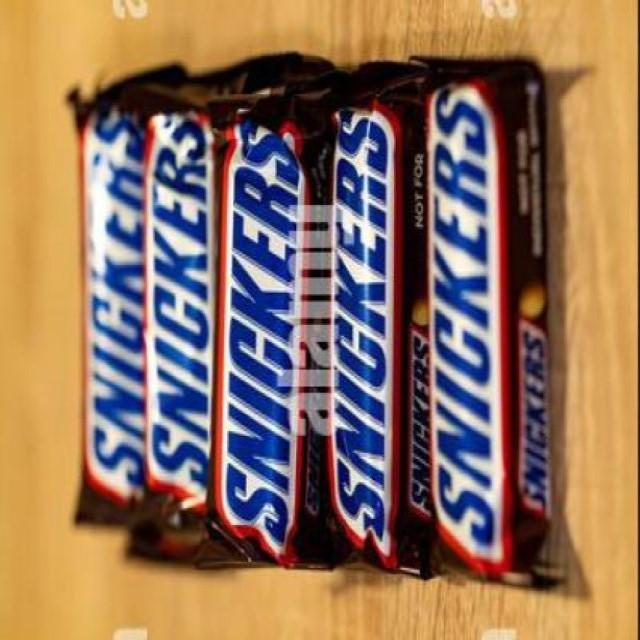snickers_chocolate: (425, 69, 548, 578), (222, 83, 333, 555), (150, 82, 218, 563), (332, 80, 398, 573), (75, 72, 143, 533)
